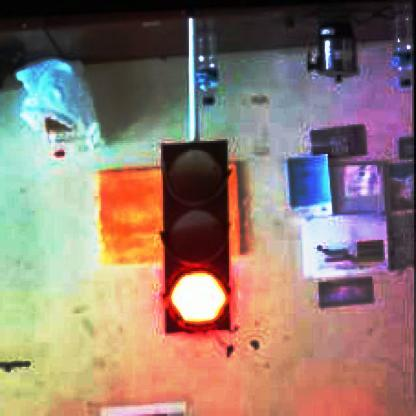Traffic Light -Red-: (162, 137, 230, 332)
